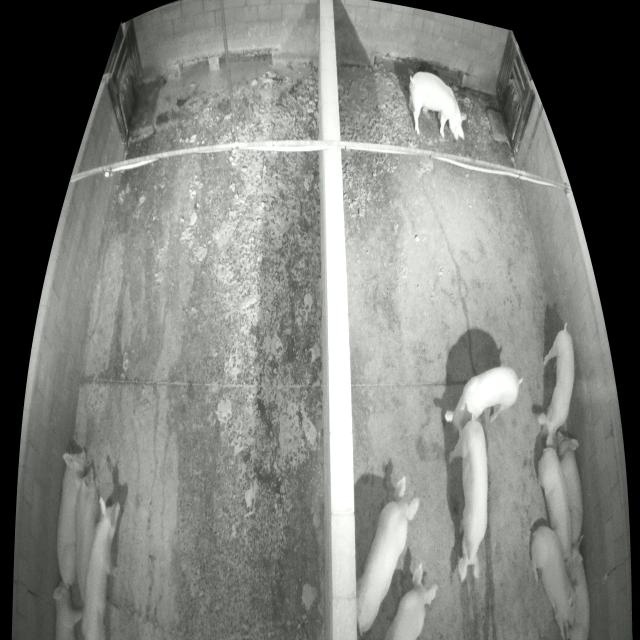pig: (356, 475, 420, 634), (450, 421, 488, 583), (444, 366, 520, 447), (81, 497, 121, 638), (532, 525, 580, 637), (56, 449, 88, 588), (537, 331, 575, 447), (383, 560, 437, 637), (409, 71, 467, 140), (537, 448, 573, 557), (74, 466, 99, 604), (555, 430, 583, 545), (566, 547, 590, 639), (54, 580, 82, 639)
